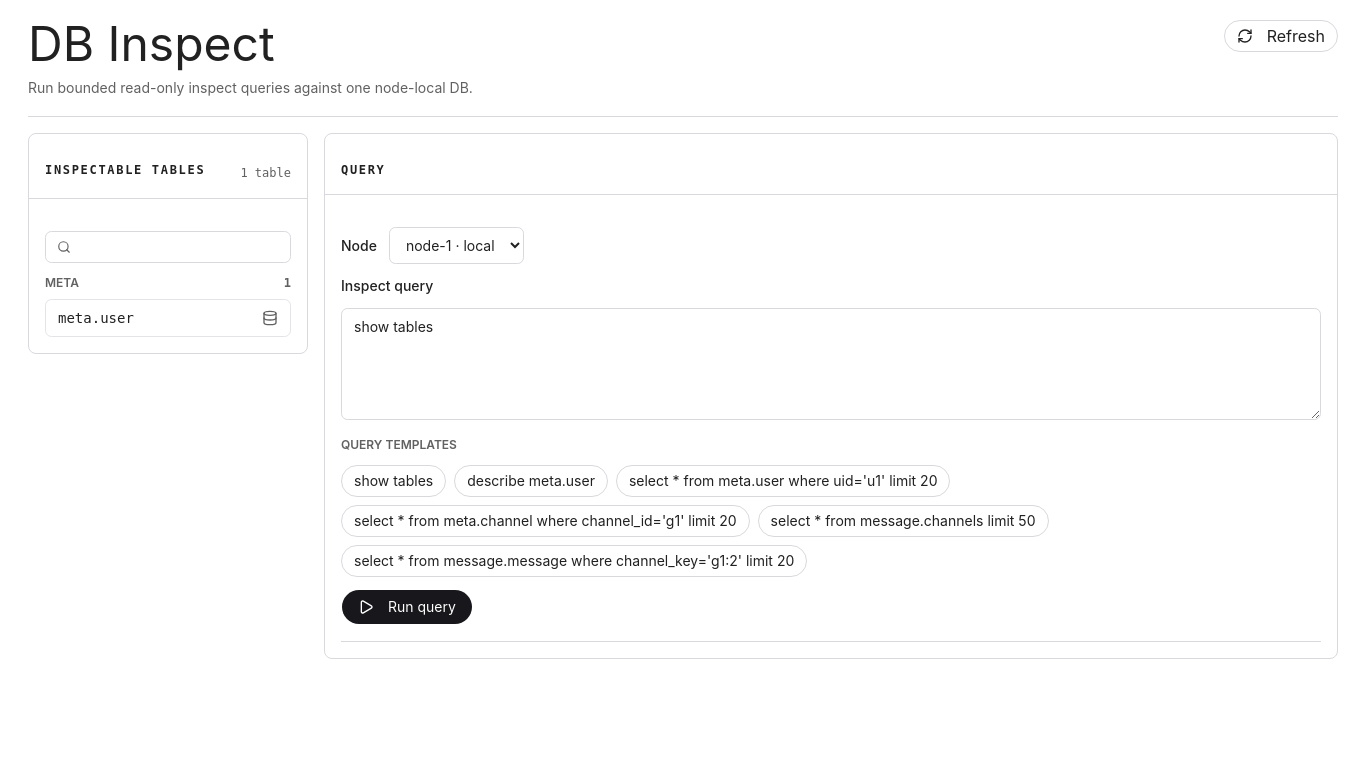
loads table list and runs a query
Expected: the text "meta.user" is shown, [58,308,134,328]
Replace the text in the text box labelled "Inspect query" with "select uid, token from meta.user where uid='u1' limit 20": (831, 364) [341,308,1321,420]
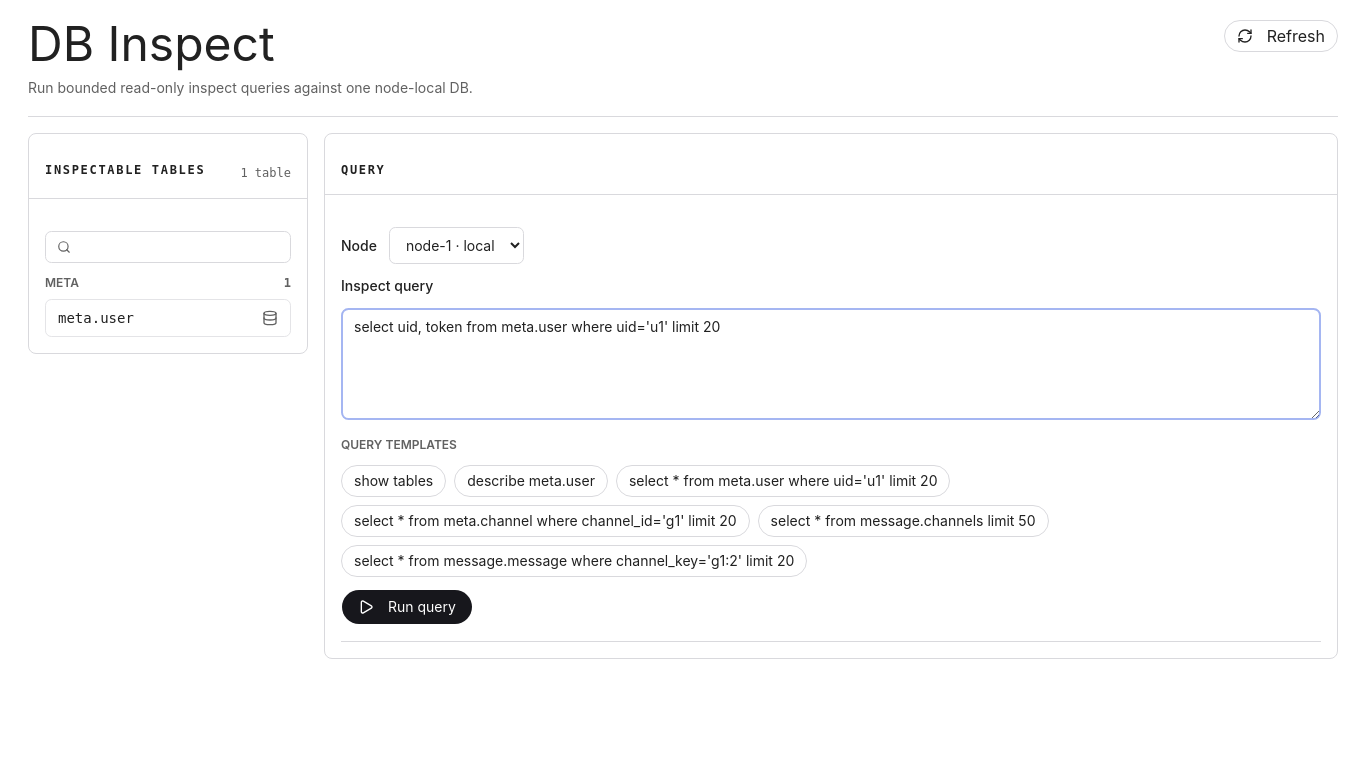
Click the button "Run query": (407, 607) [341,589,473,625]
(page scrolled)
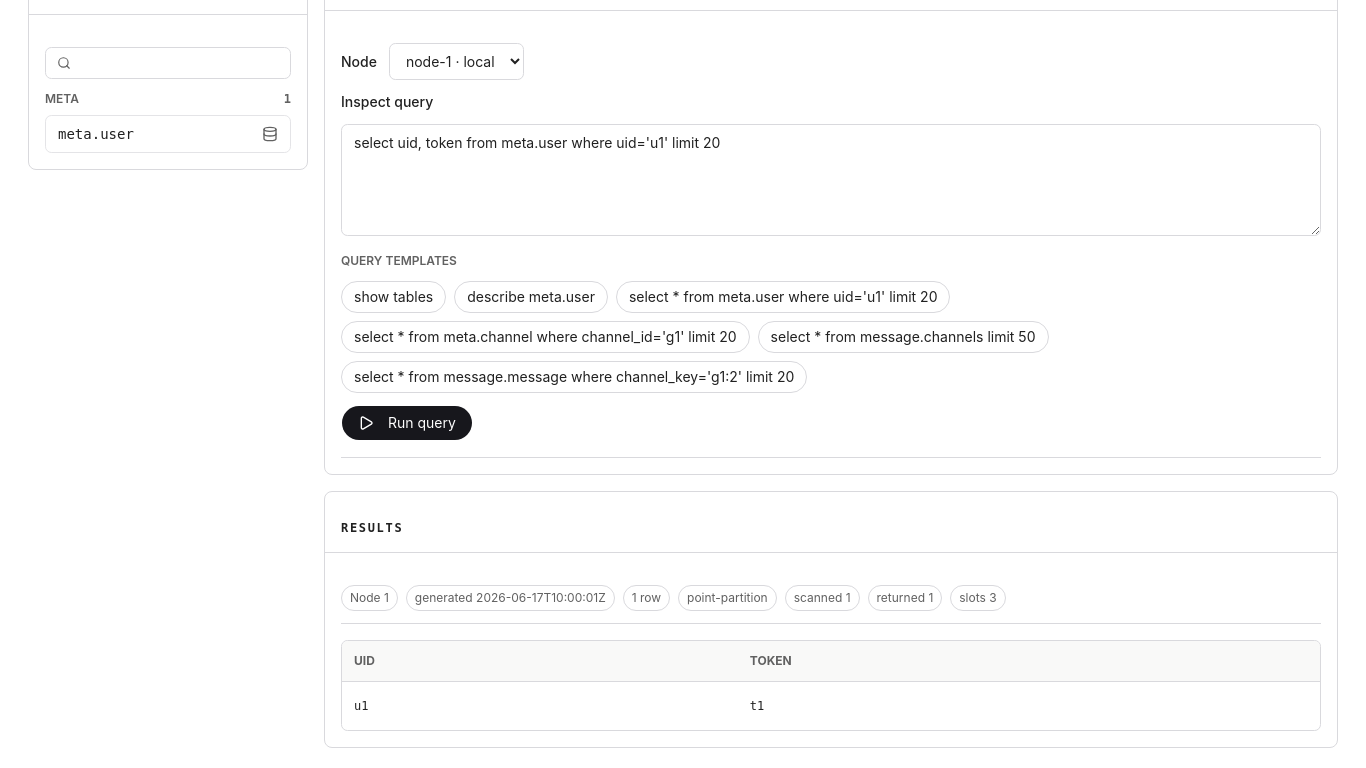
Expected: the text "u1" is shown, [342,682,738,730]
Expected: the text "point-partition" is shown, [678,585,777,611]
